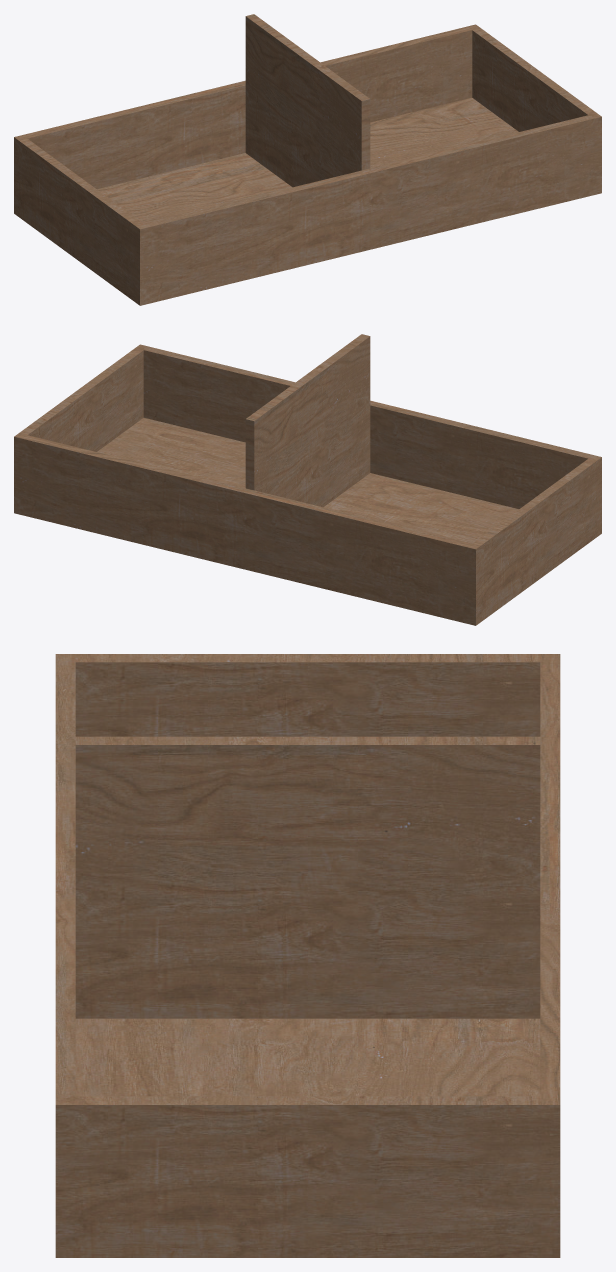
3 renders of one model, top to bottom at view 1: azimuth 30°, elevation 25°; view 2: azimuth 150°, elevation 25°; view 3: azimuth 270°, elevation 25°, orthographic. The views are drawn at different scales.
Parts seen in each view (by area): view 1: SM_Box; view 2: SM_Box; view 3: SM_Box.
Part boxes in pixels (left/top/right/bottom): SM_Box: left=14, top=14, right=601, bottom=305; SM_Box: left=14, top=334, right=601, bottom=625; SM_Box: left=55, top=654, right=560, bottom=1257.
Bounding box in the file's own units: 0.537 × 0.162 × 0.254.
1 material, 1 textured.
